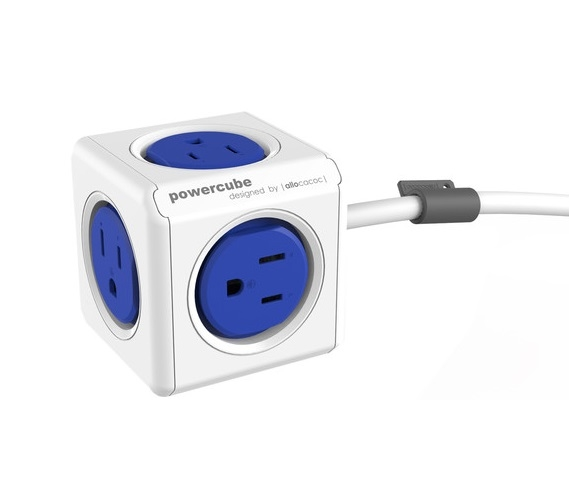outlet: (223, 246, 291, 311), (91, 222, 127, 302), (176, 129, 250, 164)
